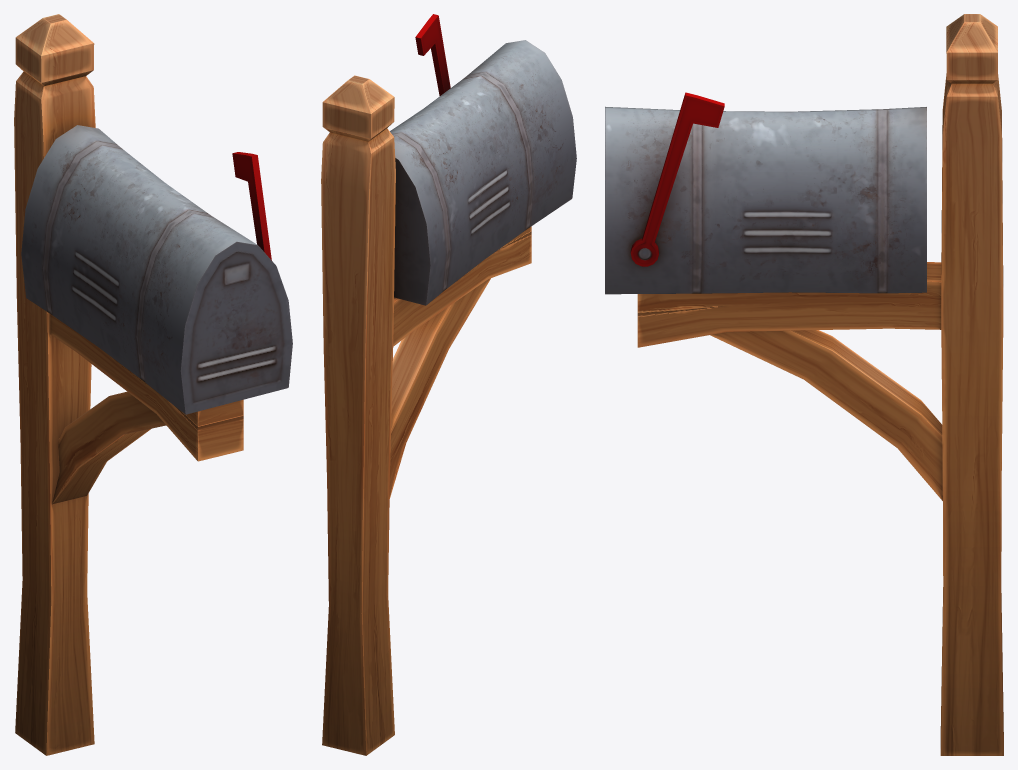
File: PostBox01.FBX
3 renders of one model, left to right at view 1: azimuth 30°, elevation 25°; view 2: azimuth 150°, elevation 25°; view 3: azimuth 270°, elevation 25°, orthographic. The views are drawn at different scales.
Visible parts, largest first — view 1: PostBox01; view 2: PostBox01; view 3: PostBox01.
Part boxes in pixels (x1=…): PostBox01: x1=14, y1=14, x2=292, y2=755; PostBox01: x1=321, y1=14, x2=576, y2=755; PostBox01: x1=605, y1=14, x2=1003, y2=755.
Size of what is drawn, in the model's own units: 0.2657 by 1.56 by 0.7781.
